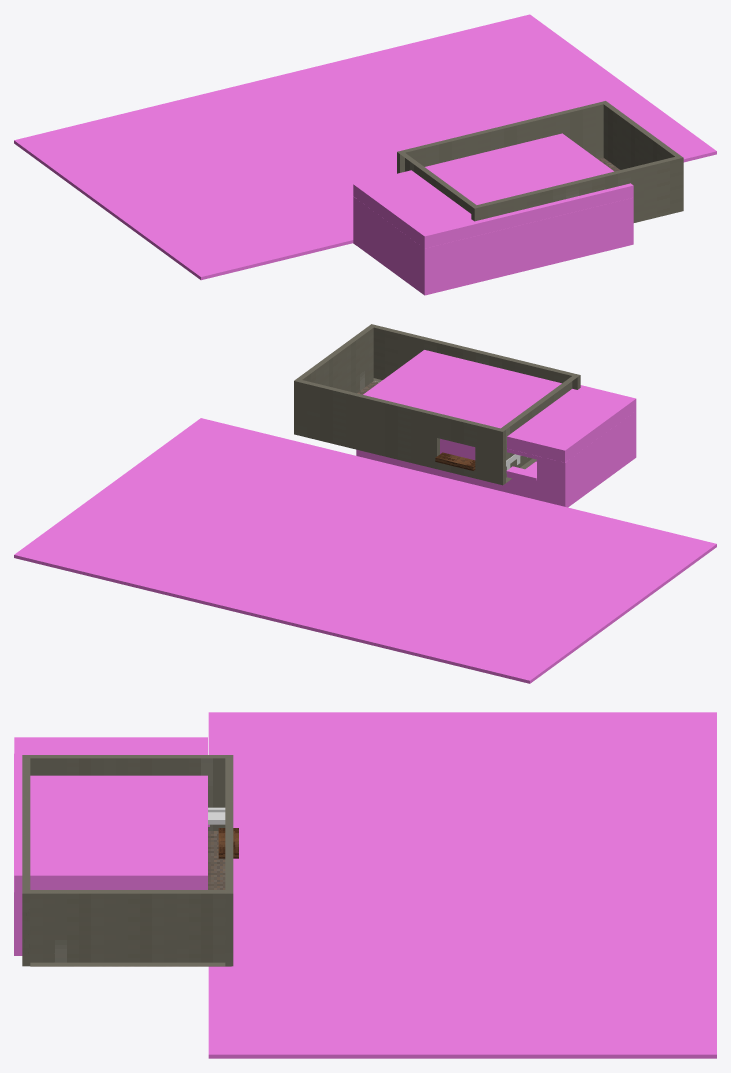
Rendered from Fridge.glb.
3 renders of one model, top to bottom at view 1: azimuth 30°, elevation 25°; view 2: azimuth 150°, elevation 25°; view 3: azimuth 270°, elevation 25°, orthographic. The views are drawn at different scales.
Parts seen in each view (by area): view 1: CSGCombiner3D2, Walls, CSGCombiner3D2.001; view 2: CSGCombiner3D2.001, CSGCombiner3D2, Walls; view 3: CSGCombiner3D2, CSGCombiner3D2.001, Walls, Floor.
Boxes of the visible parts, bbox=[...] form: CSGCombiner3D2: bbox=[14, 14, 716, 295]; Walls: bbox=[397, 101, 683, 222]; CSGCombiner3D2.001: bbox=[14, 15, 638, 294]; CSGCombiner3D2.001: bbox=[14, 352, 716, 683]; CSGCombiner3D2: bbox=[14, 350, 716, 683]; Walls: bbox=[294, 324, 580, 485]; CSGCombiner3D2: bbox=[14, 712, 716, 1058]; CSGCombiner3D2.001: bbox=[14, 712, 716, 1058]; Walls: bbox=[22, 755, 233, 966]; Floor: bbox=[30, 831, 231, 966].
Size of the model in its own units: 2.97 by 0.3948 by 2.58.
7 materials, 4 textured.
